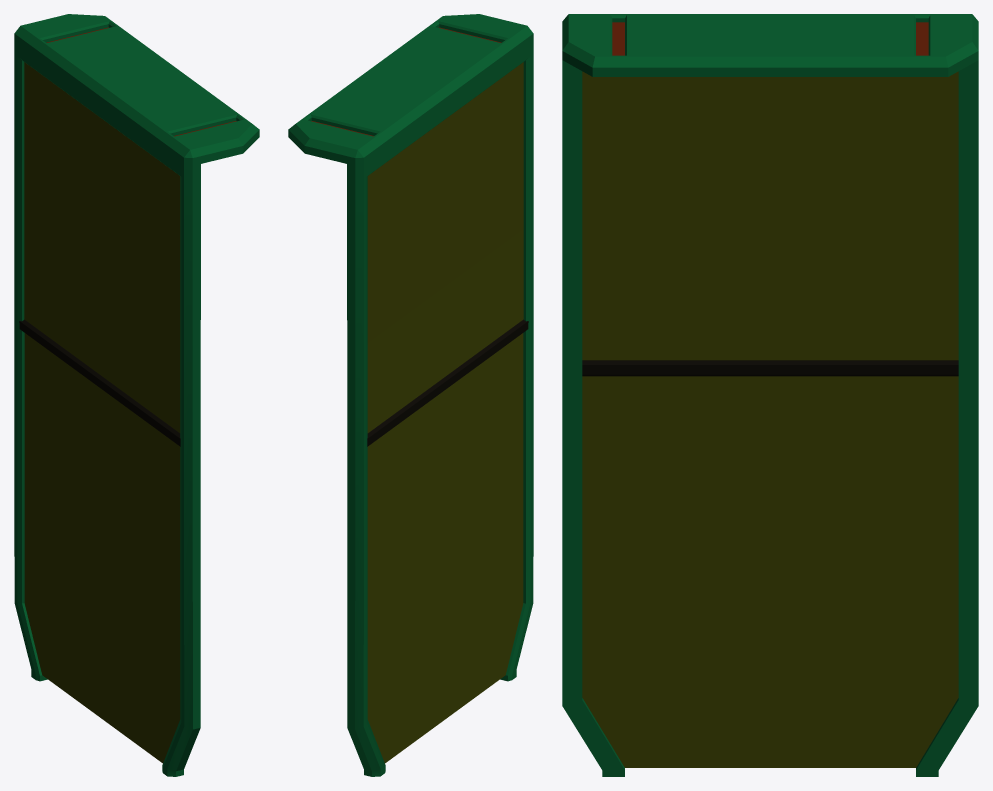
Rendered from OBJ_Plateforme_Climb.fbx.
The picture shows the model from 3 angles, left to right: view 1: azimuth 30°, elevation 25°; view 2: azimuth 150°, elevation 25°; view 3: azimuth 270°, elevation 25°; orthographic projection. The views are drawn at different scales.
Visible parts, largest first — view 1: OBJ_Plateforme_Climb; view 2: OBJ_Plateforme_Climb; view 3: OBJ_Plateforme_Climb.
Part boxes in pixels (bbox=[...]): OBJ_Plateforme_Climb: bbox=[14, 14, 259, 776]; OBJ_Plateforme_Climb: bbox=[288, 14, 533, 776]; OBJ_Plateforme_Climb: bbox=[562, 14, 978, 776].
Bounding box in the file's own units: 2.82 × 20.1 × 10.
